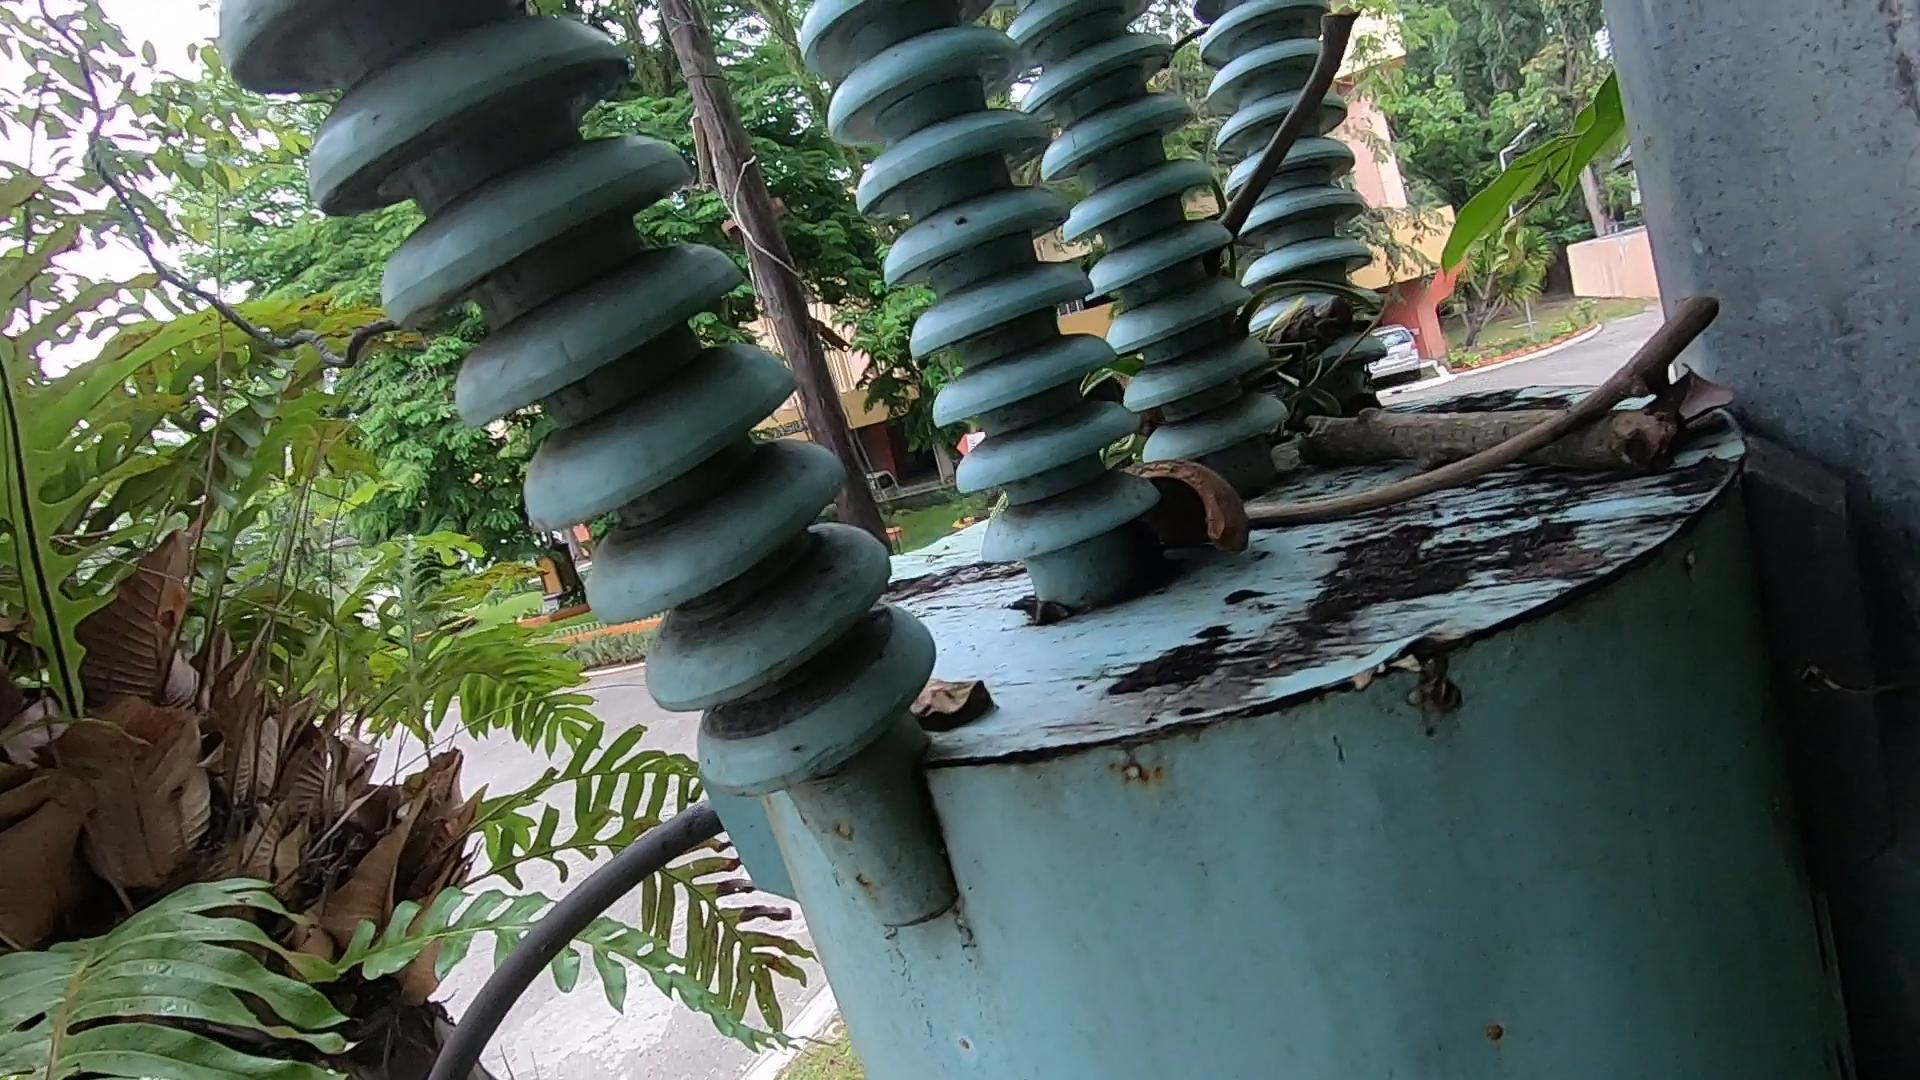branch with leaves: (1270, 291, 1718, 505)
leaf: (901, 663, 1065, 764), (1669, 348, 1754, 471)
mahogany fruit: (1106, 426, 1327, 593)
tree branch: (1245, 315, 1714, 521), (1232, 1, 1352, 258)
